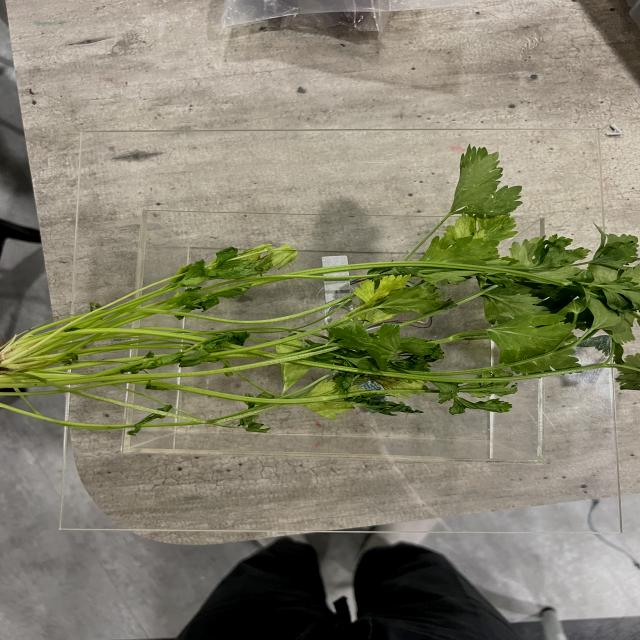chinese celery: (0, 143, 640, 438)
